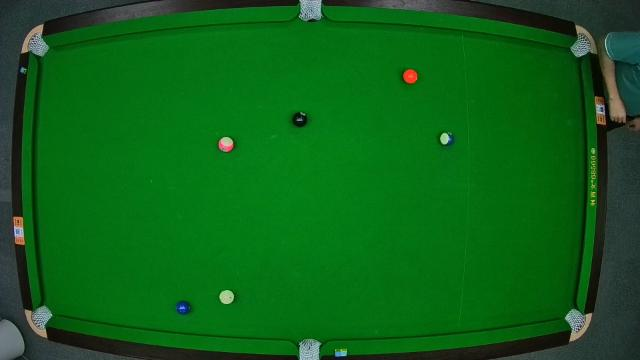bag1: (28, 35, 44, 55)
bag2: (300, 0, 322, 22)
bag3: (574, 34, 590, 54)
bag4: (32, 307, 49, 327)
bag5: (298, 342, 320, 360)
bag6: (566, 310, 586, 332)
ball0: (219, 288, 235, 306)
ball10: (438, 131, 454, 146)
ball12: (218, 137, 234, 153)
ball2: (176, 301, 190, 315)
ball5: (403, 70, 419, 84)
ball8: (291, 110, 307, 127)
